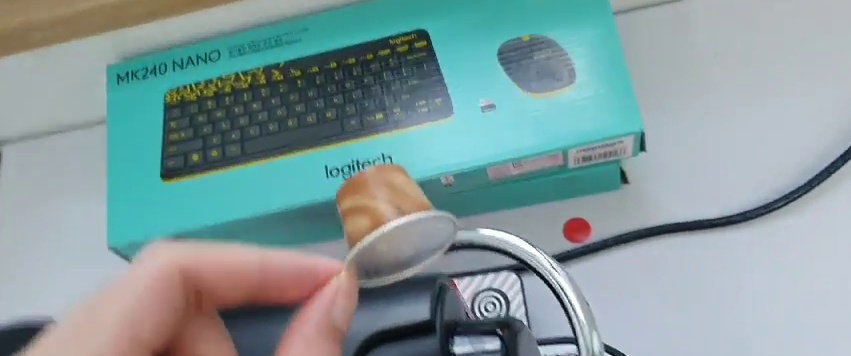capsule_12: (329, 164, 459, 287)
